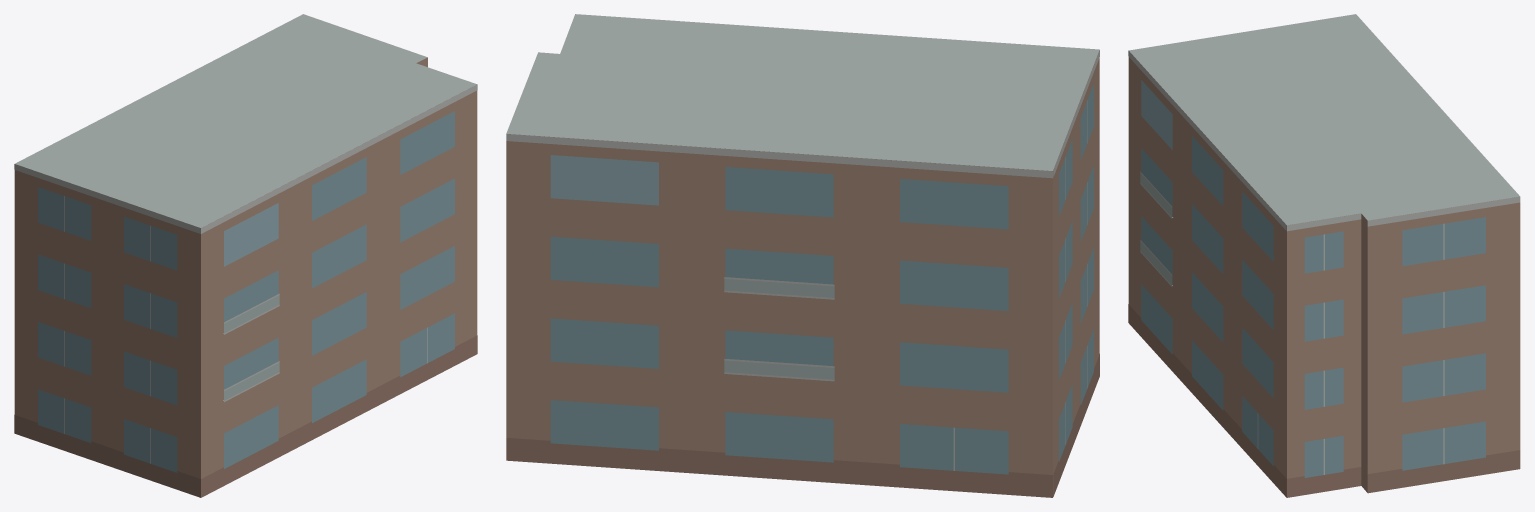
File: survey-upis-32847397.glb
3 views of the same model, side by side, from view 1: azimuth 30°, elevation 25°; view 2: azimuth 150°, elevation 25°; view 3: azimuth 270°, elevation 25° (orthographic). The views are drawn at different scales.
Parts seen in each view (by area): view 1: survey-upis-32847397.tmp; view 2: survey-upis-32847397.tmp; view 3: survey-upis-32847397.tmp.
Boxes of the visible parts, x1=… form: survey-upis-32847397.tmp: x1=14, y1=14, x2=477, y2=497; survey-upis-32847397.tmp: x1=506, y1=14, x2=1099, y2=497; survey-upis-32847397.tmp: x1=1128, y1=14, x2=1520, y2=497.
Bounding box in the file's own units: 18.47 × 11.1 × 14.47.
